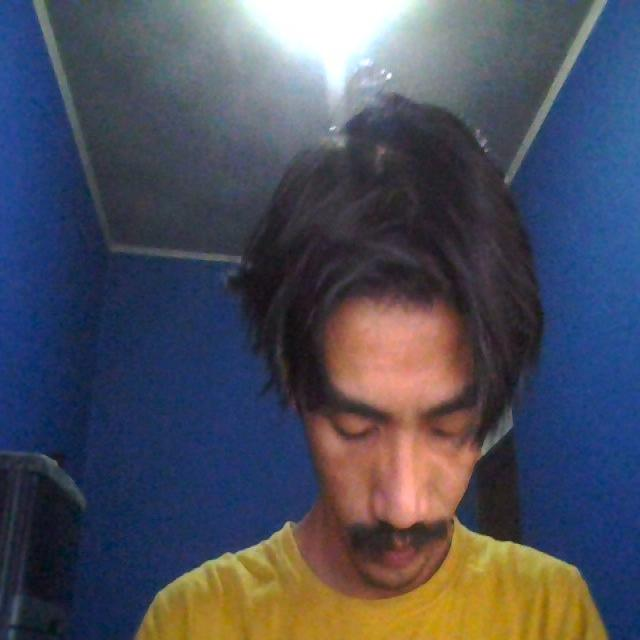Melihat Kebawah: (203, 45, 526, 593)
